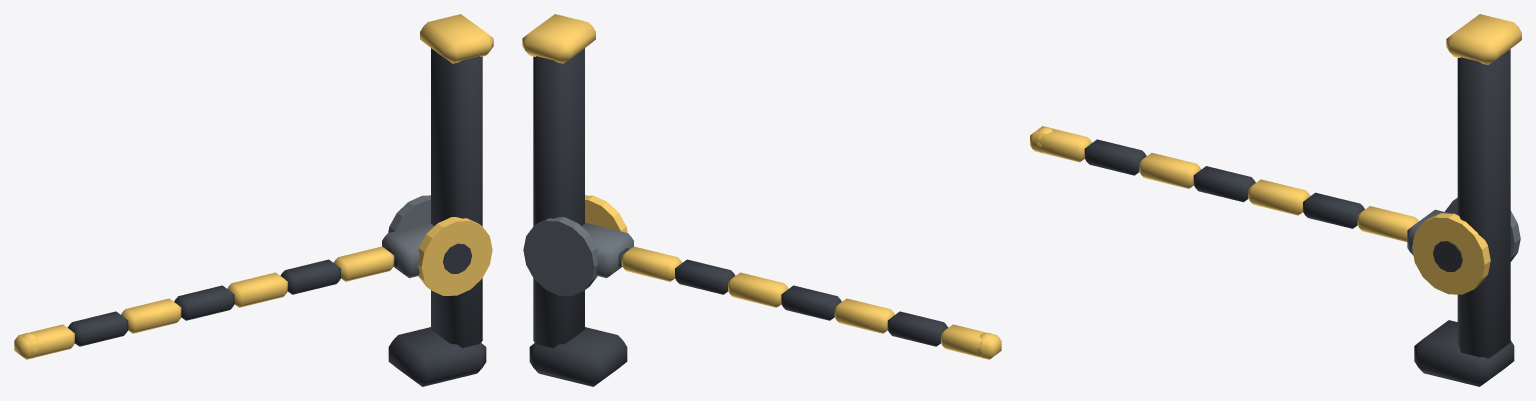
Rendered from crossing-gate.glb.
The picture shows the model from 3 angles, left to right: view 1: azimuth 30°, elevation 25°; view 2: azimuth 150°, elevation 25°; view 3: azimuth 330°, elevation 25°; orthographic projection. The views are drawn at different scales.
Visible parts, largest first — view 1: crossing-gate; view 2: crossing-gate; view 3: crossing-gate.
Part boxes in pixels (x1,y1,x2,y2): crossing-gate: (14, 14, 493, 386); crossing-gate: (522, 14, 1001, 386); crossing-gate: (1030, 14, 1521, 386).
Bounding box in the file's own units: 4.57 × 3.2 × 0.615.
